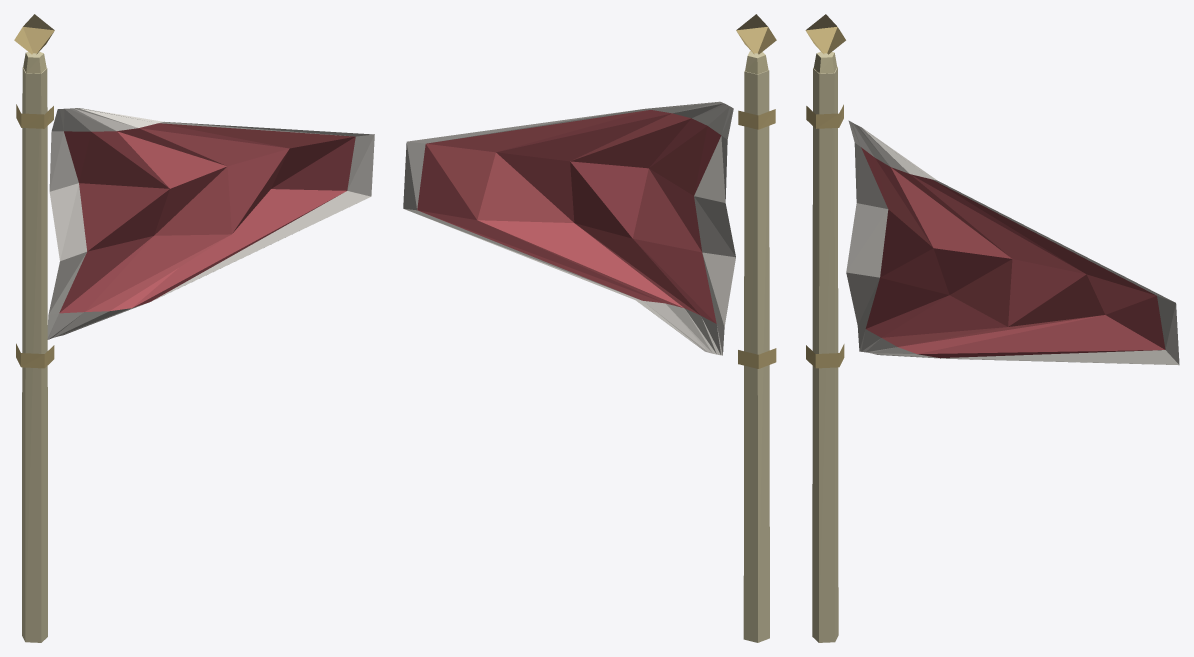
Rendered from flag.pennant.lingqi__pole.stick.mugun__masthead.glb.
3 renders of one model, left to right at view 1: azimuth 30°, elevation 25°; view 2: azimuth 150°, elevation 25°; view 3: azimuth 330°, elevation 25°, orthographic.
Parts seen in each view (by area): view 1: flag.pennant.lingqi; view 2: flag.pennant.lingqi; view 3: flag.pennant.lingqi.
Part boxes in pixels (x1,y1,x2,y2): flag.pennant.lingqi: (14,14,374,642); flag.pennant.lingqi: (403,14,776,642); flag.pennant.lingqi: (805,14,1179,642).
Bounding box in the file's own units: 1.28 × 2.08 × 0.2144.
